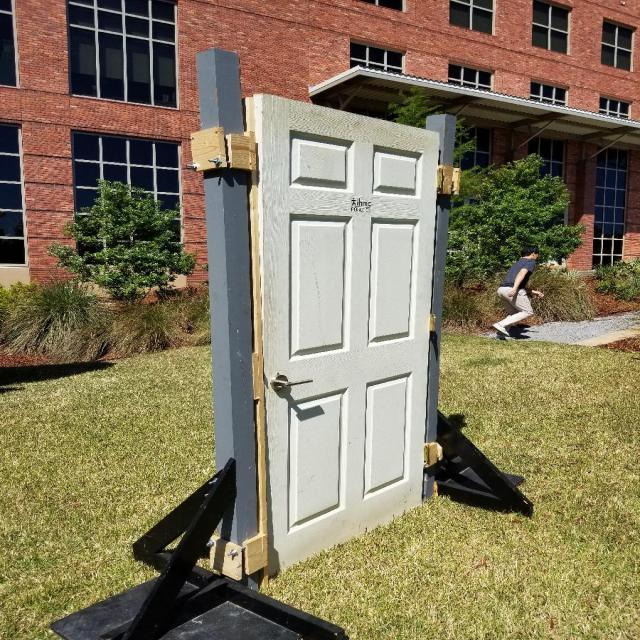door: (249, 90, 442, 578), (268, 372, 314, 392)
